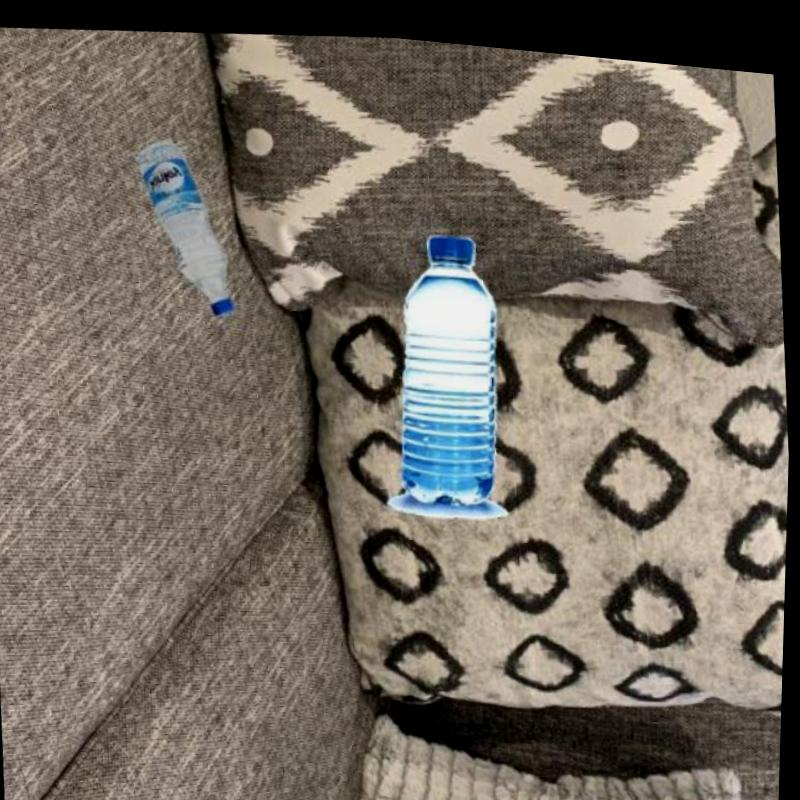botella: (390, 218, 510, 501), (133, 129, 237, 317)
